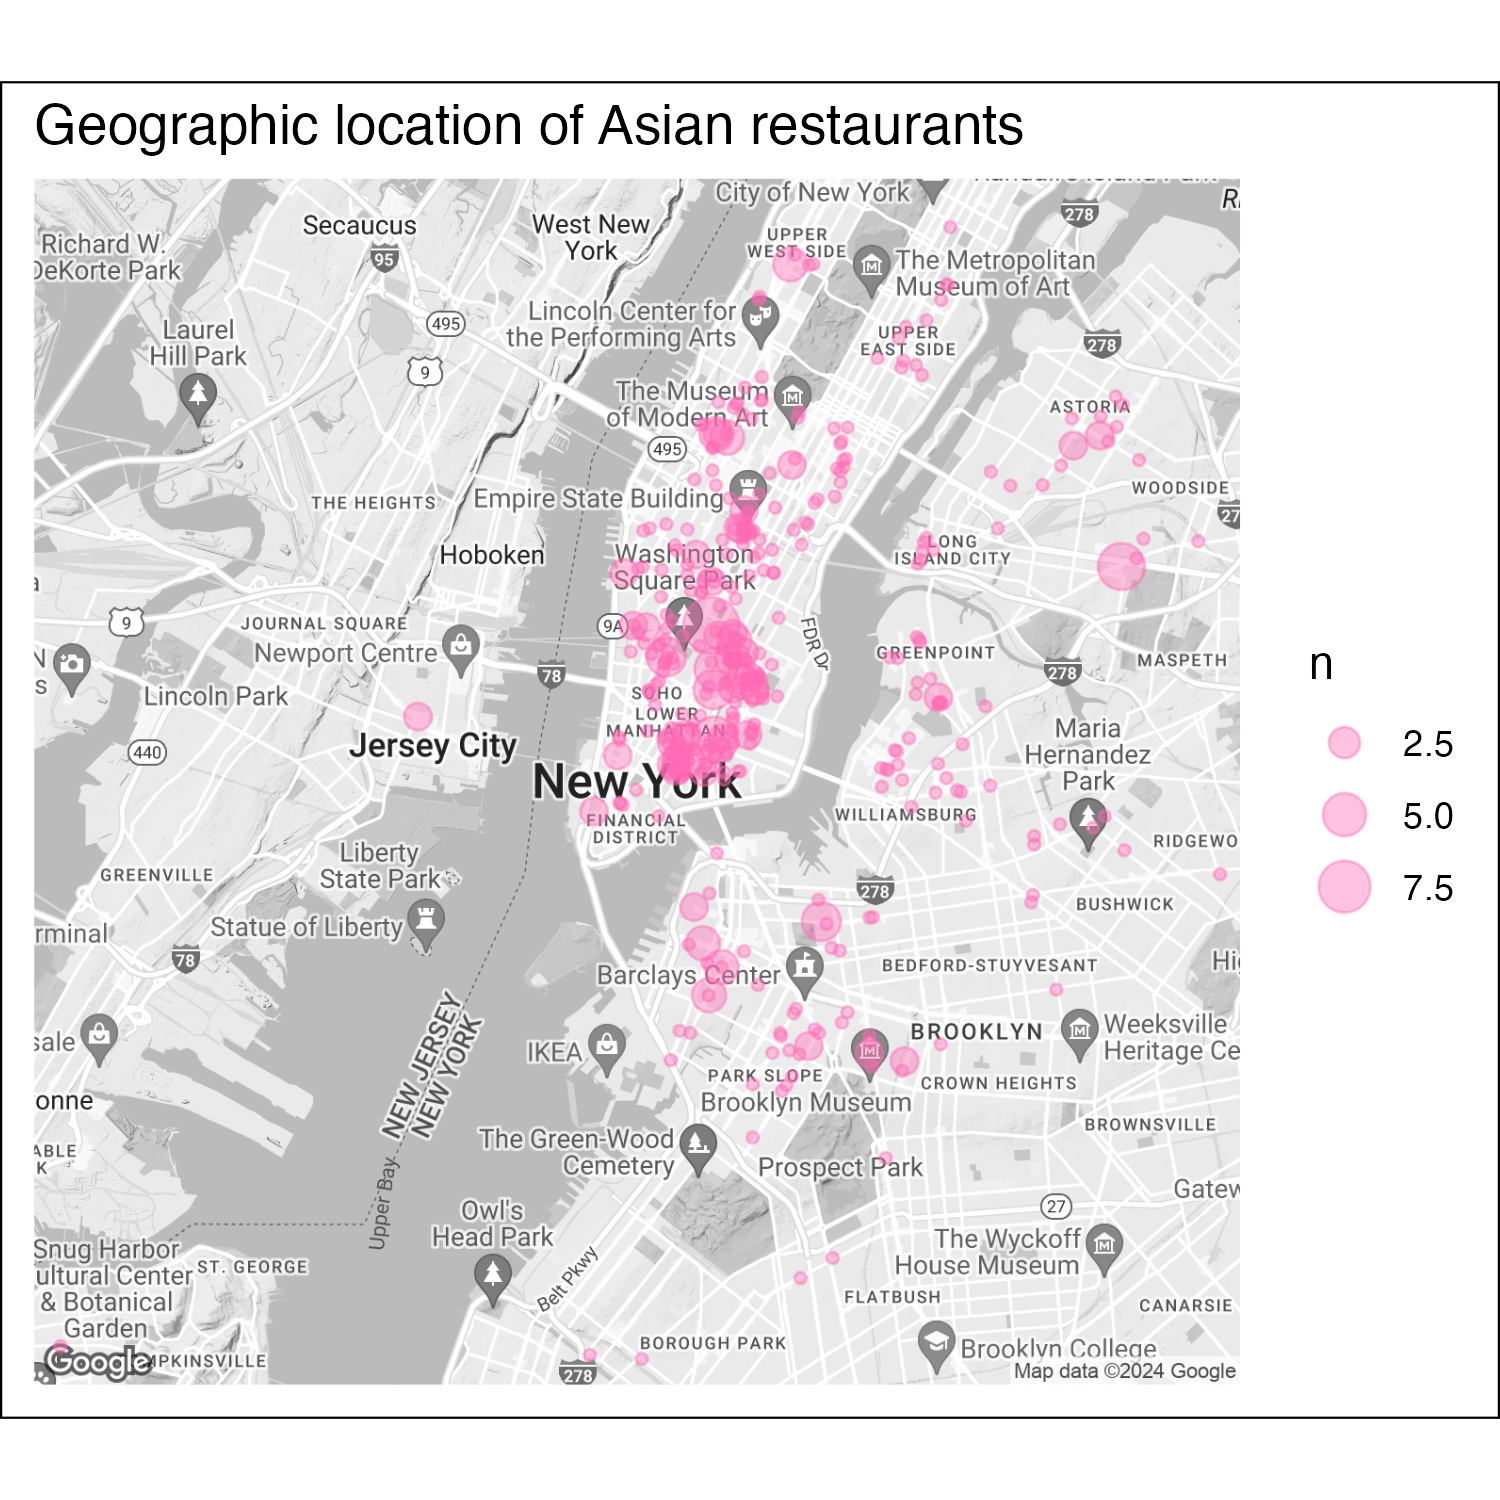

Layout of this report page (visuals, bound fields, positions):
{"tool":"tableau","page":{"name":"Dashboard 1","canvas":[1000,800],"ordinal":0},"visuals":[{"type":"worksheet","title":"Sheet 1","mark":"Automatic","box":[8,8,492,784]},{"type":"worksheet","title":"Sheet 2","mark":"Automatic","rows":["Lat"],"cols":["Lon"],"box":[500,8,492,784]},{"type":"legend","title":"Sheet 1","param":"[federated.15truaq15kn2651h218mu058u6fi].[sum:Calculation_965811028890787842:qk]","box":[270,57,140,76]}]}

Visuals, with their boxes on the page's 1000x800 design canvas (x1, y1, x2, y2). These are canvas units, not pixel positions in the 1500x1500 screenshot, which may show the page scaled, cropped or inside an application window:
"Sheet 1" worksheet: bbox(8, 8, 500, 792)
"Sheet 2" worksheet: bbox(500, 8, 992, 792)
"Sheet 1" legend: bbox(270, 57, 410, 133)
